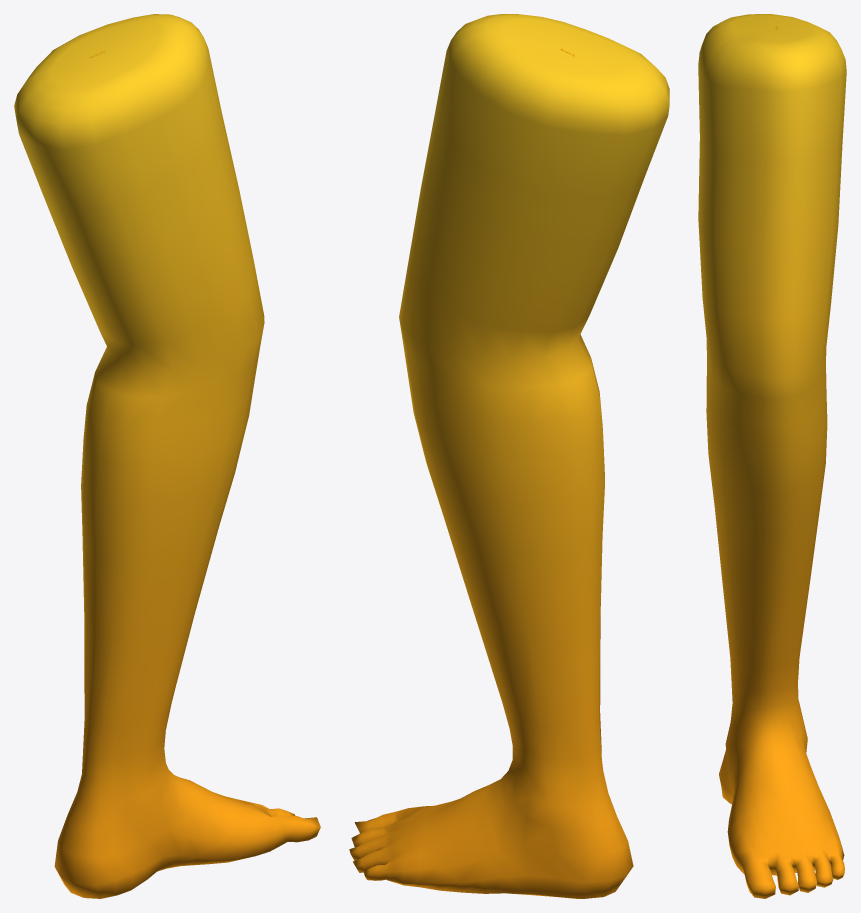
The model's file is leg.gltf.
3 views of the same model, side by side, from view 1: azimuth 30°, elevation 25°; view 2: azimuth 150°, elevation 25°; view 3: azimuth 270°, elevation 25° (orthographic). The views are drawn at different scales.
Visible parts, largest first — view 1: Circle.272; view 2: Circle.272; view 3: Circle.272.
Part boxes in pixels (left/top/right/bottom): Circle.272: left=14, top=14, right=320, bottom=898; Circle.272: left=349, top=14, right=669, bottom=898; Circle.272: left=698, top=14, right=846, bottom=898.
Size of the model in its own units: 0.6958 by 1.89 by 0.3204.
1 material, 1 textured.
